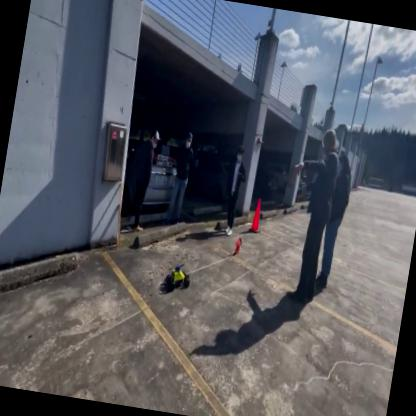cone: (246, 189, 268, 237)
mushr_car: (162, 256, 196, 297)
